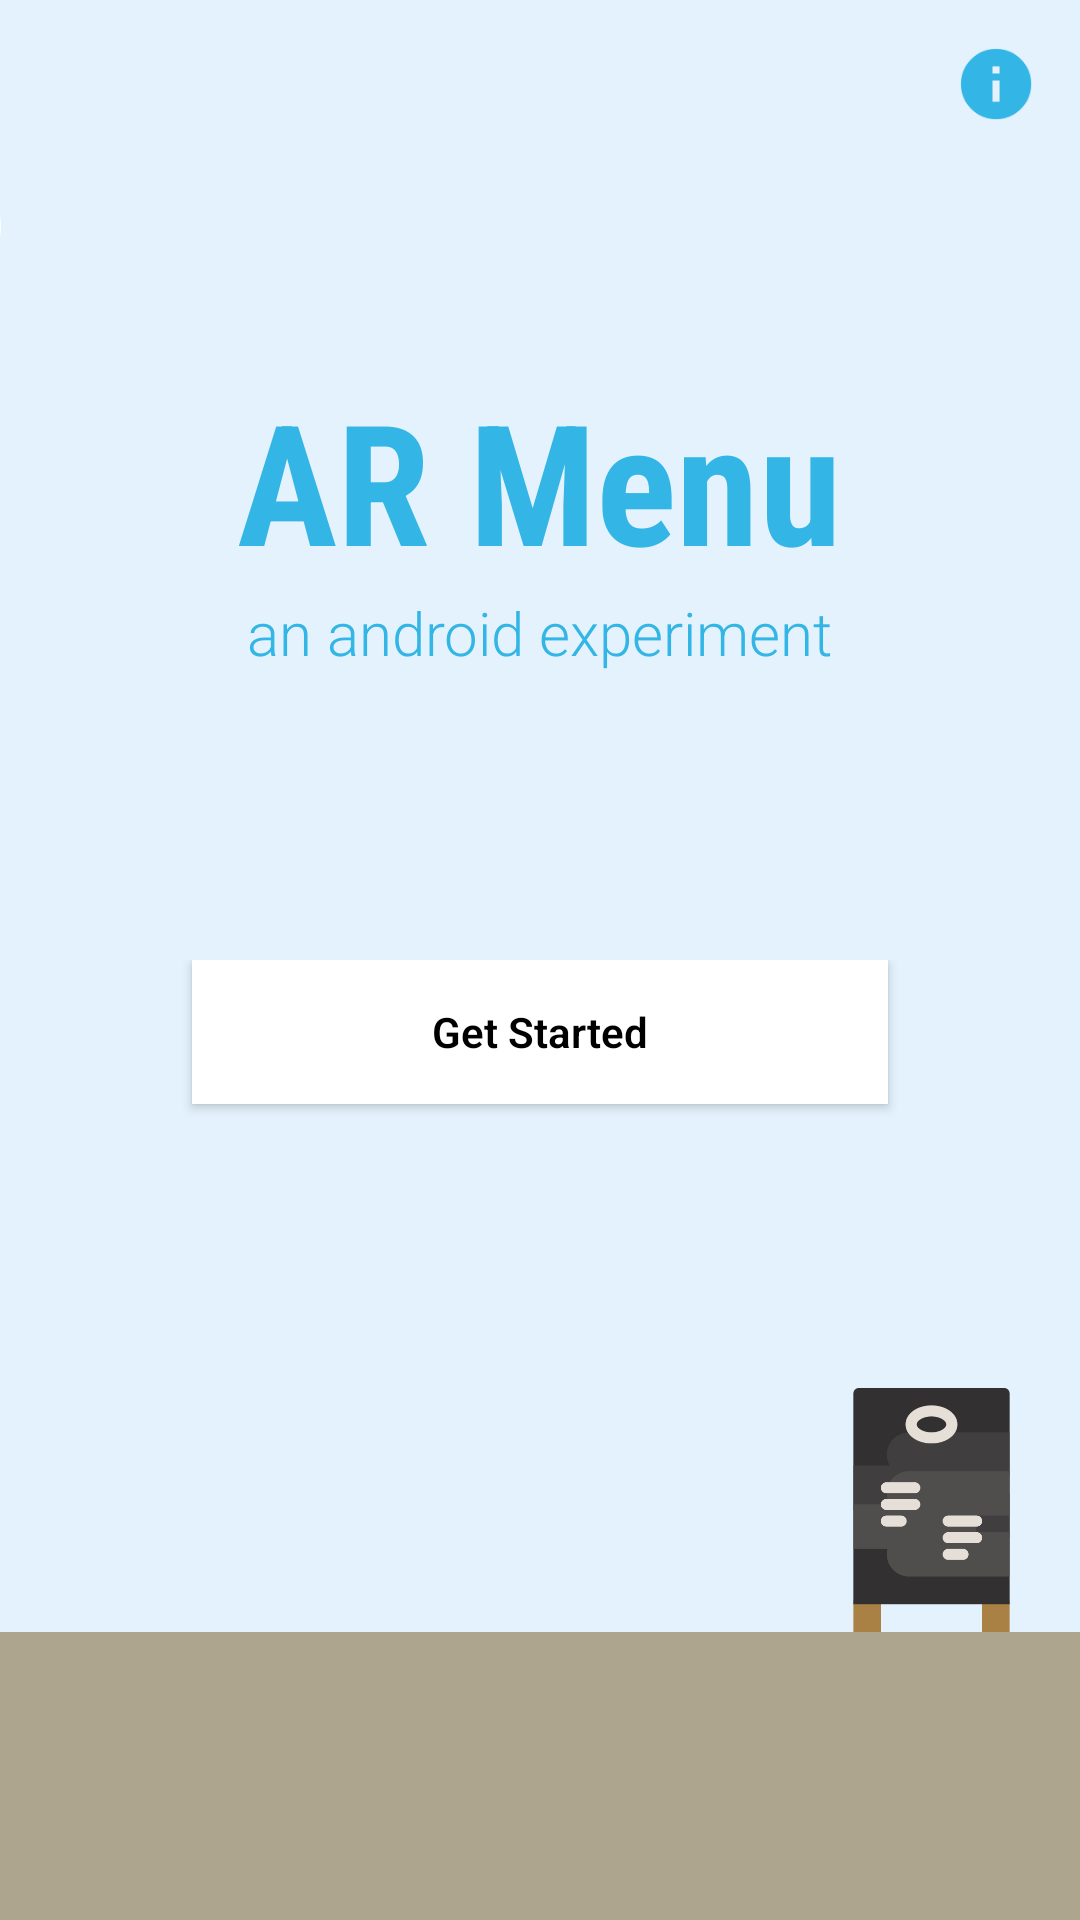

Icon click points for this 1080w x 1920h phone screenshot, format (x=x, y=y):
info: (x=996, y=84)
menu: (x=931, y=1510)
